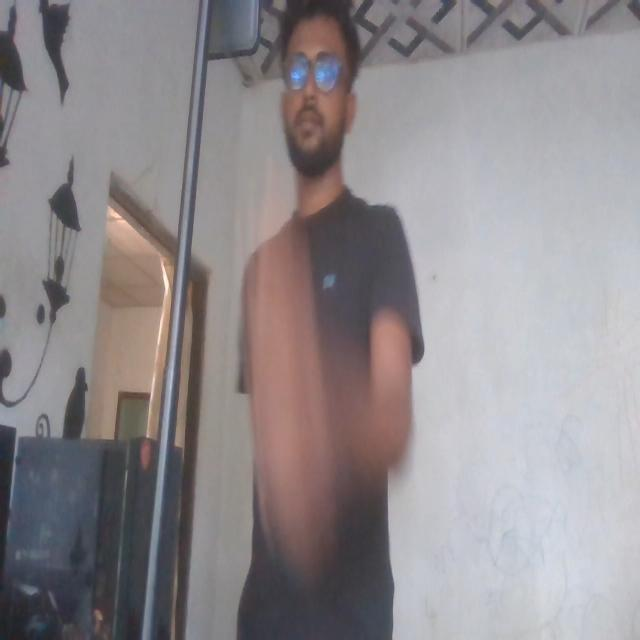Person: (231, 0, 435, 640)
